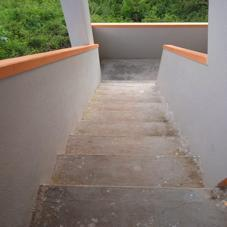Stair Down: (38, 80, 227, 197)
